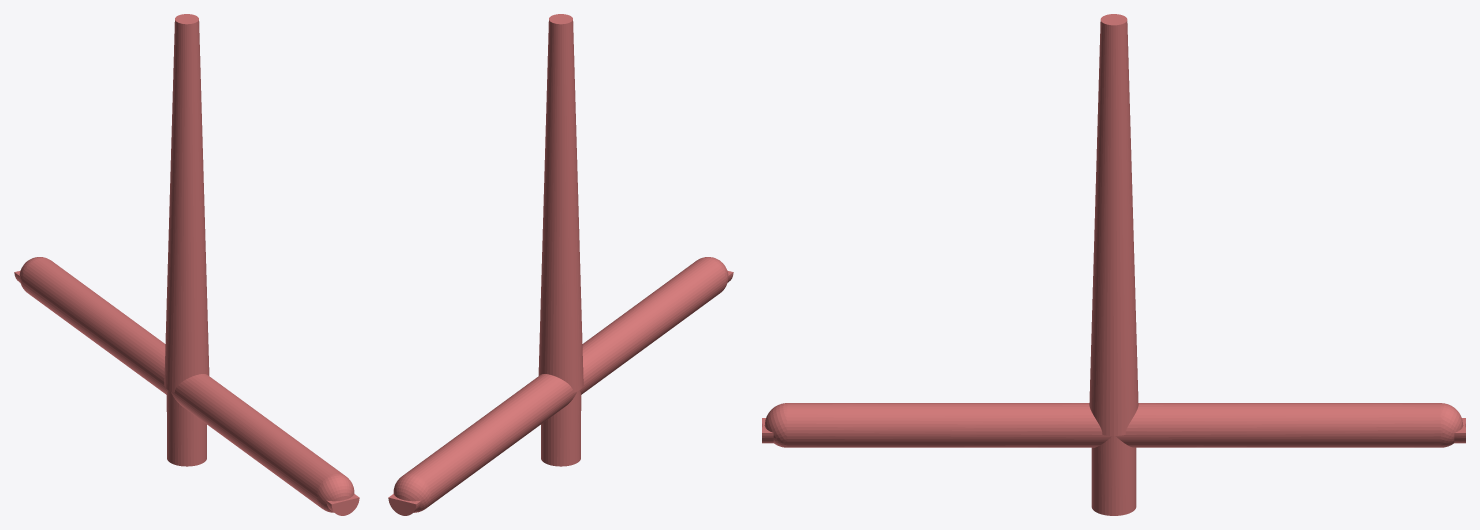
The model's file is hot_runner_system.glb.
The picture shows the model from 3 angles, left to right: view 1: azimuth 30°, elevation 25°; view 2: azimuth 150°, elevation 25°; view 3: azimuth 270°, elevation 25°; orthographic projection. The views are drawn at different scales.
Parts seen in each view (by area): view 1: Hot_Runner_System; view 2: Hot_Runner_System; view 3: Hot_Runner_System.
Part boxes in pixels (x1=…): Hot_Runner_System: x1=14, y1=14, x2=359, y2=515; Hot_Runner_System: x1=388, y1=14, x2=733, y2=515; Hot_Runner_System: x1=762, y1=14, x2=1465, y2=515.
Bounding box in the file's own units: 5.62 × 60 × 78.61.
